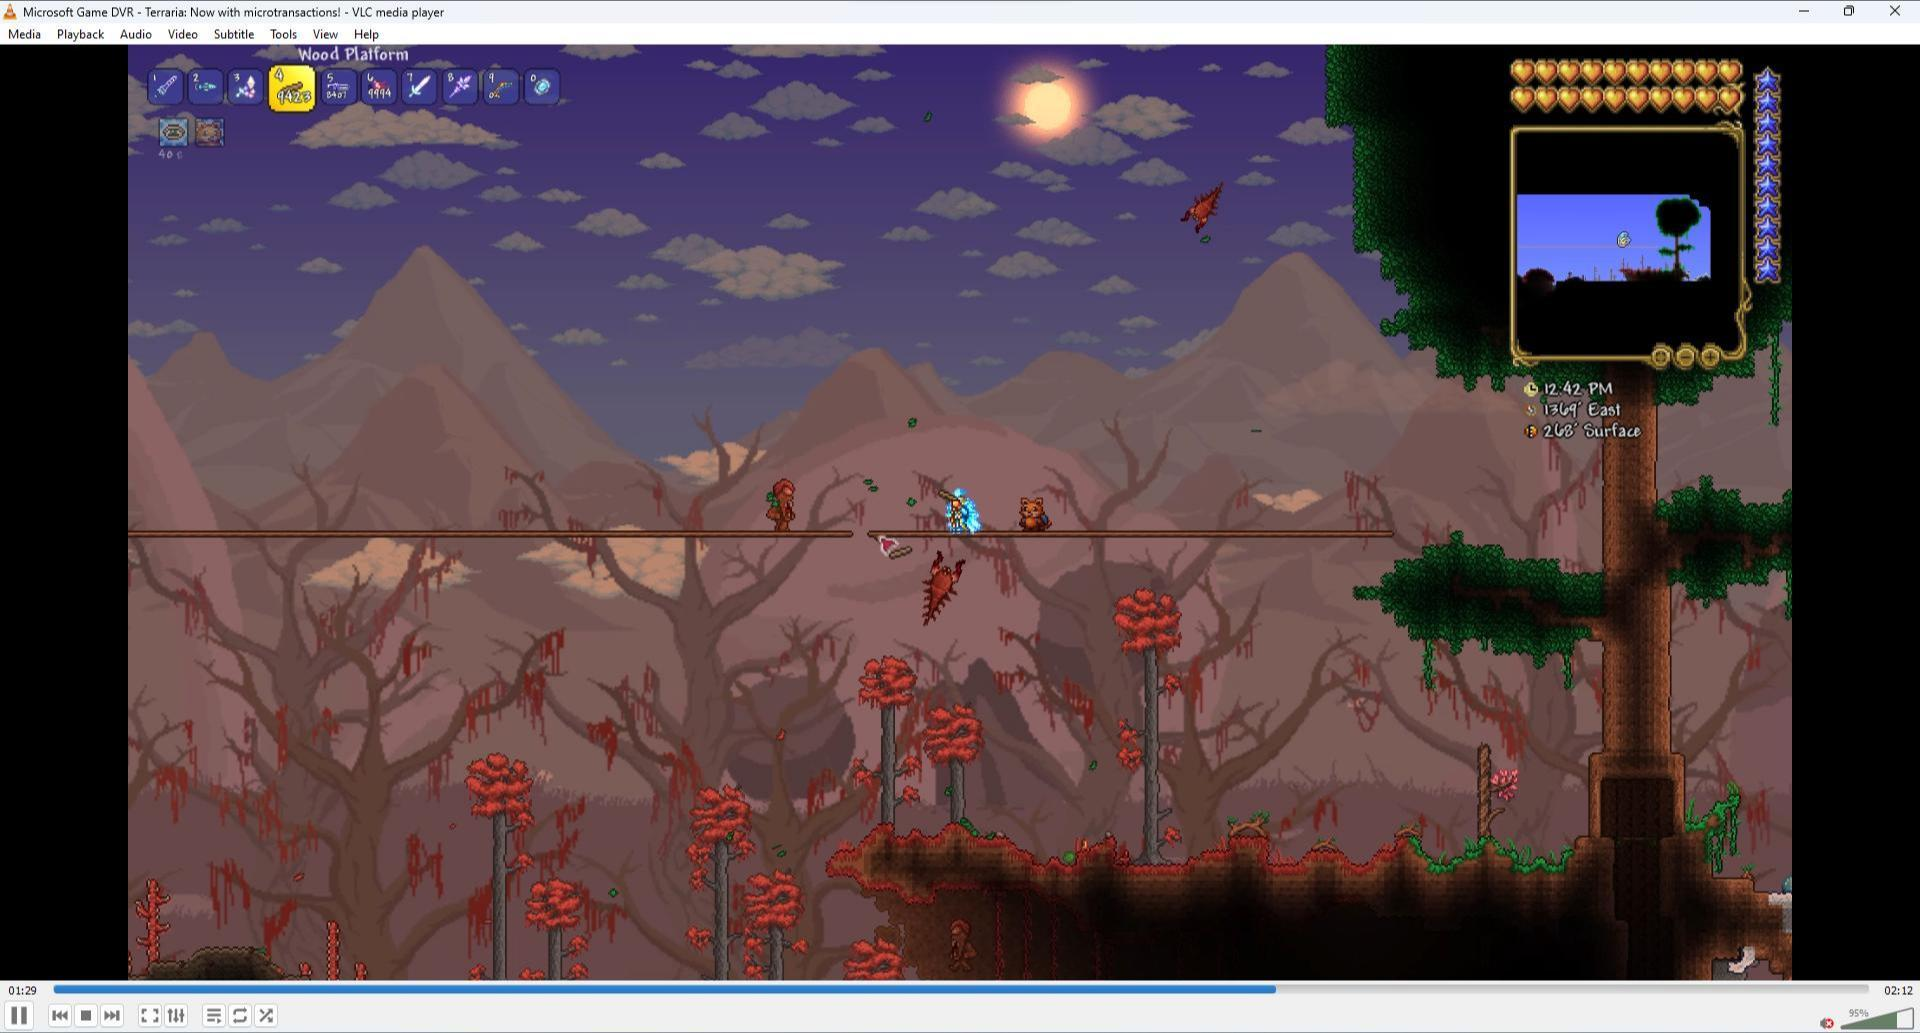crimera: (915, 551, 970, 620), (1181, 186, 1224, 243)
zombie: (763, 477, 802, 533)
